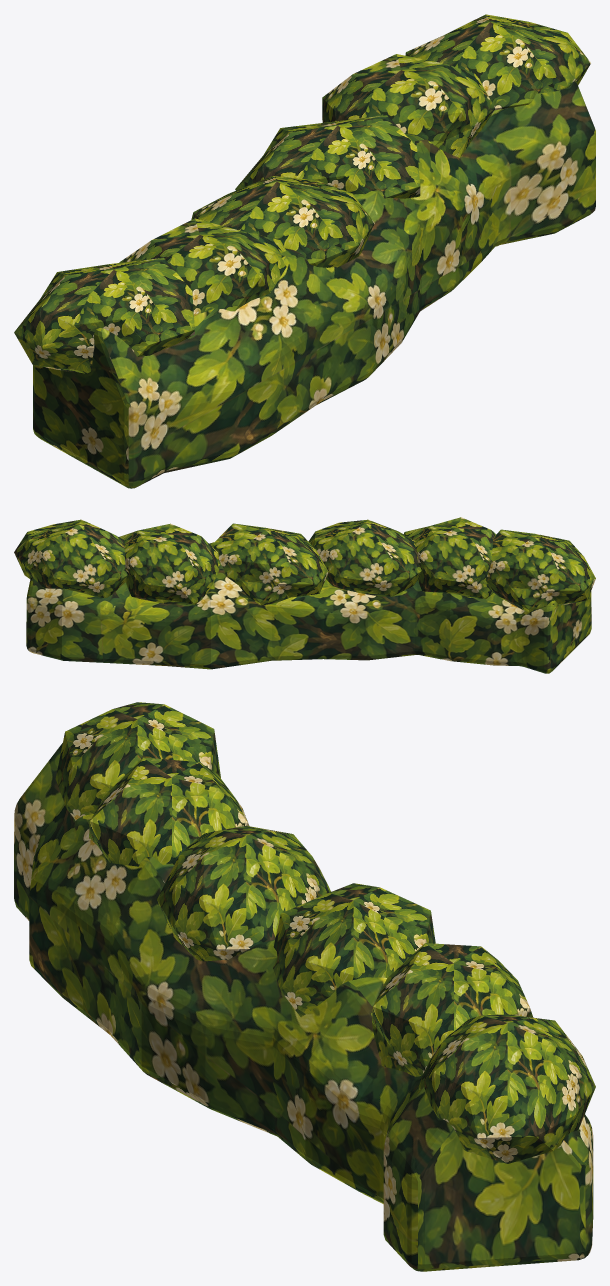
The model's file is hawthorn_curve.glb.
3 views of the same model, one above another, from view 1: azimuth 30°, elevation 25°; view 2: azimuth 150°, elevation 25°; view 3: azimuth 270°, elevation 25° (orthographic). The views are drawn at different scales.
Parts seen in each view (by area): view 1: Painted flowering hawthorn; view 2: Painted flowering hawthorn; view 3: Painted flowering hawthorn.
Part boxes in pixels (left/top/right/bottom): Painted flowering hawthorn: left=14, top=14, right=595, bottom=488; Painted flowering hawthorn: left=14, top=517, right=595, bottom=673; Painted flowering hawthorn: left=14, top=702, right=595, bottom=1271.
Bounding box in the file's own units: 8.91 × 2.26 × 5.35.
Materials: 2 (2 with a texture image).
